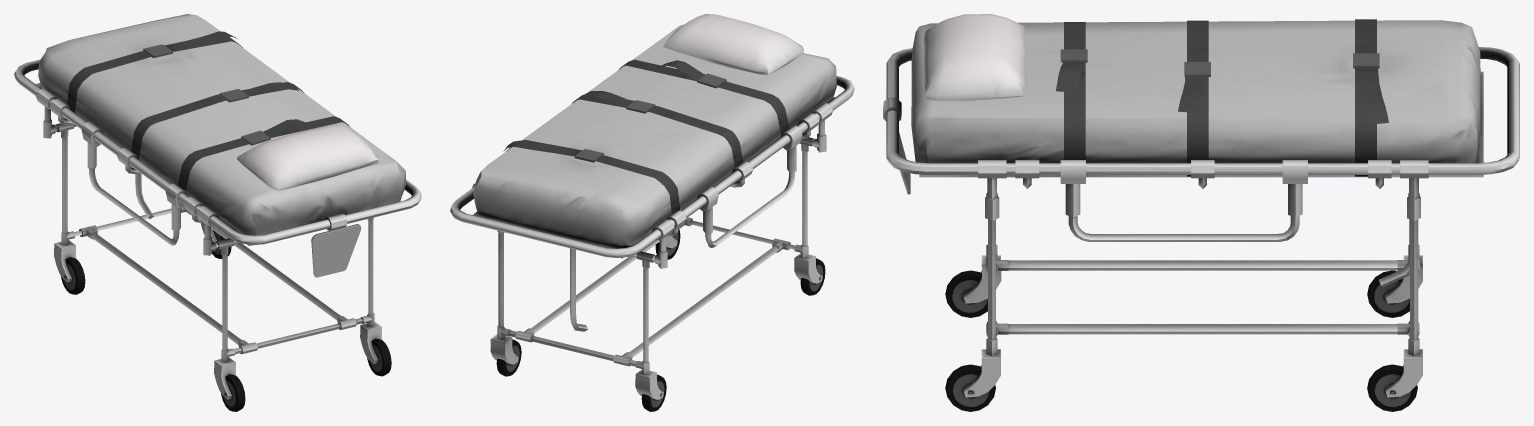
The model's file is straps_table.fbx.
The picture shows the model from 3 angles, left to right: view 1: azimuth 30°, elevation 25°; view 2: azimuth 150°, elevation 25°; view 3: azimuth 270°, elevation 25°; orthographic projection. The views are drawn at different scales.
Parts seen in each view (by area): view 1: straps_table; view 2: straps_table; view 3: straps_table.
Boxes of the visible parts, box(x1,y1,x2,y2) form: straps_table: box(14, 14, 421, 411); straps_table: box(450, 14, 854, 411); straps_table: box(883, 14, 1519, 411).
Bounding box in the file's own units: 94.13 × 117 × 203.
1 material, 1 textured.
